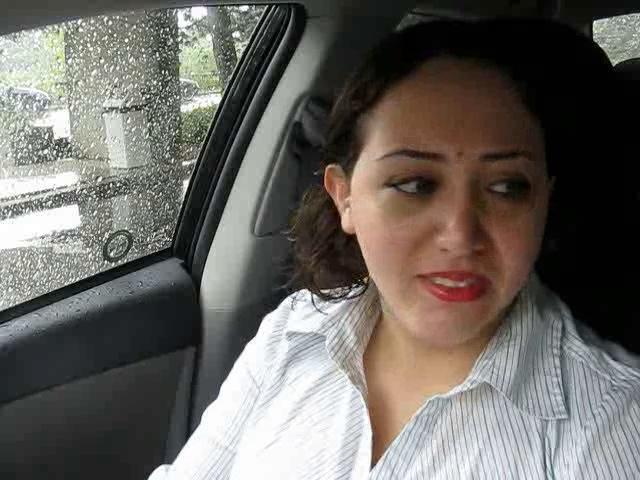no_yawn: (392, 249, 508, 319)
open_eyeL: (365, 159, 451, 214)
open_eyeR: (465, 162, 548, 219)
